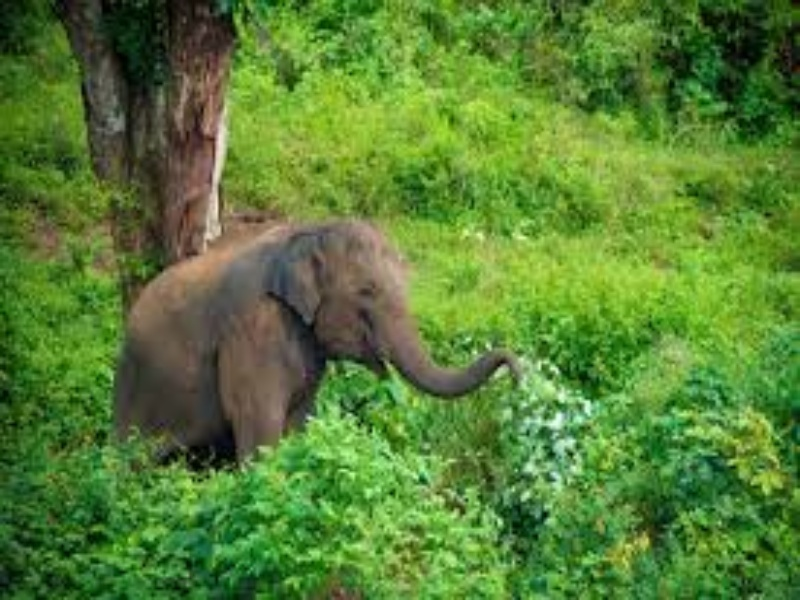elephant: (90, 185, 534, 505)
